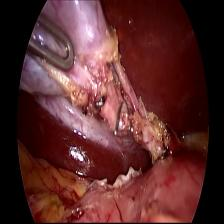Grasper: (28, 9, 76, 76)
